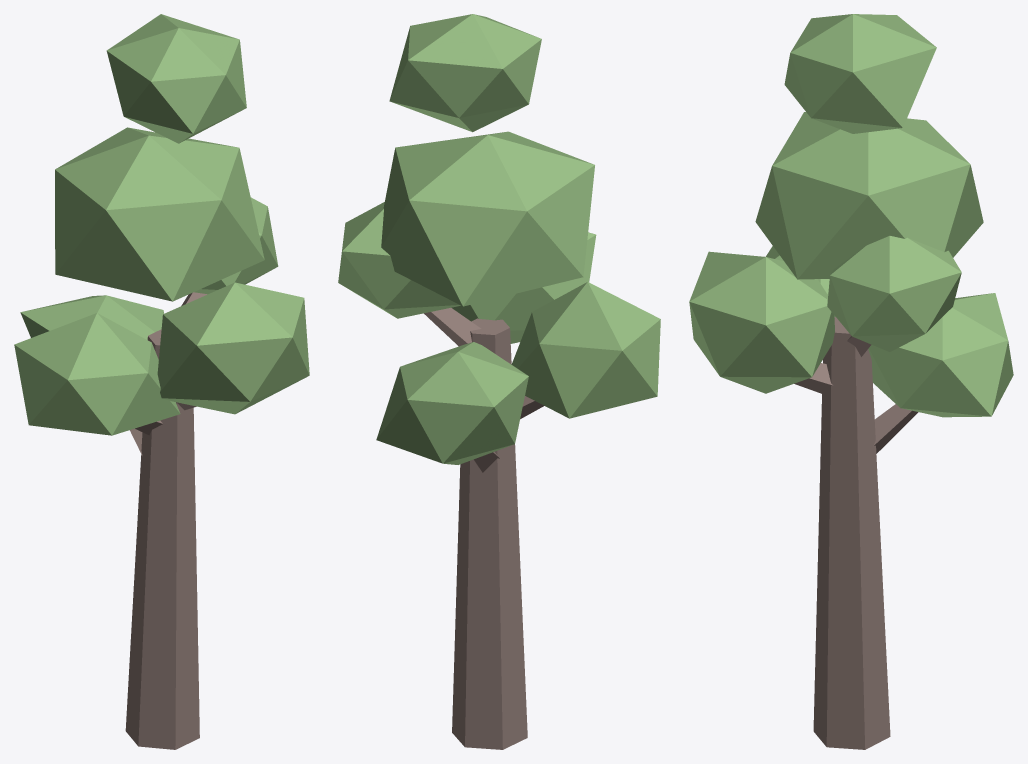
File: arv_carvalho_2_sem_textura.glb
3 renders of one model, left to right at view 1: azimuth 30°, elevation 25°; view 2: azimuth 150°, elevation 25°; view 3: azimuth 270°, elevation 25°, orthographic. The views are drawn at different scales.
Visible parts, largest first — view 1: arv_carvalho_2; view 2: arv_carvalho_2; view 3: arv_carvalho_2.
Boxes of the visible parts, left/top/right/bottom form: arv_carvalho_2: left=14, top=14, right=309, bottom=749; arv_carvalho_2: left=338, top=14, right=660, bottom=749; arv_carvalho_2: left=689, top=14, right=1013, bottom=749.
Size of the model in its own units: 0.8338 by 2.06 by 0.829.
